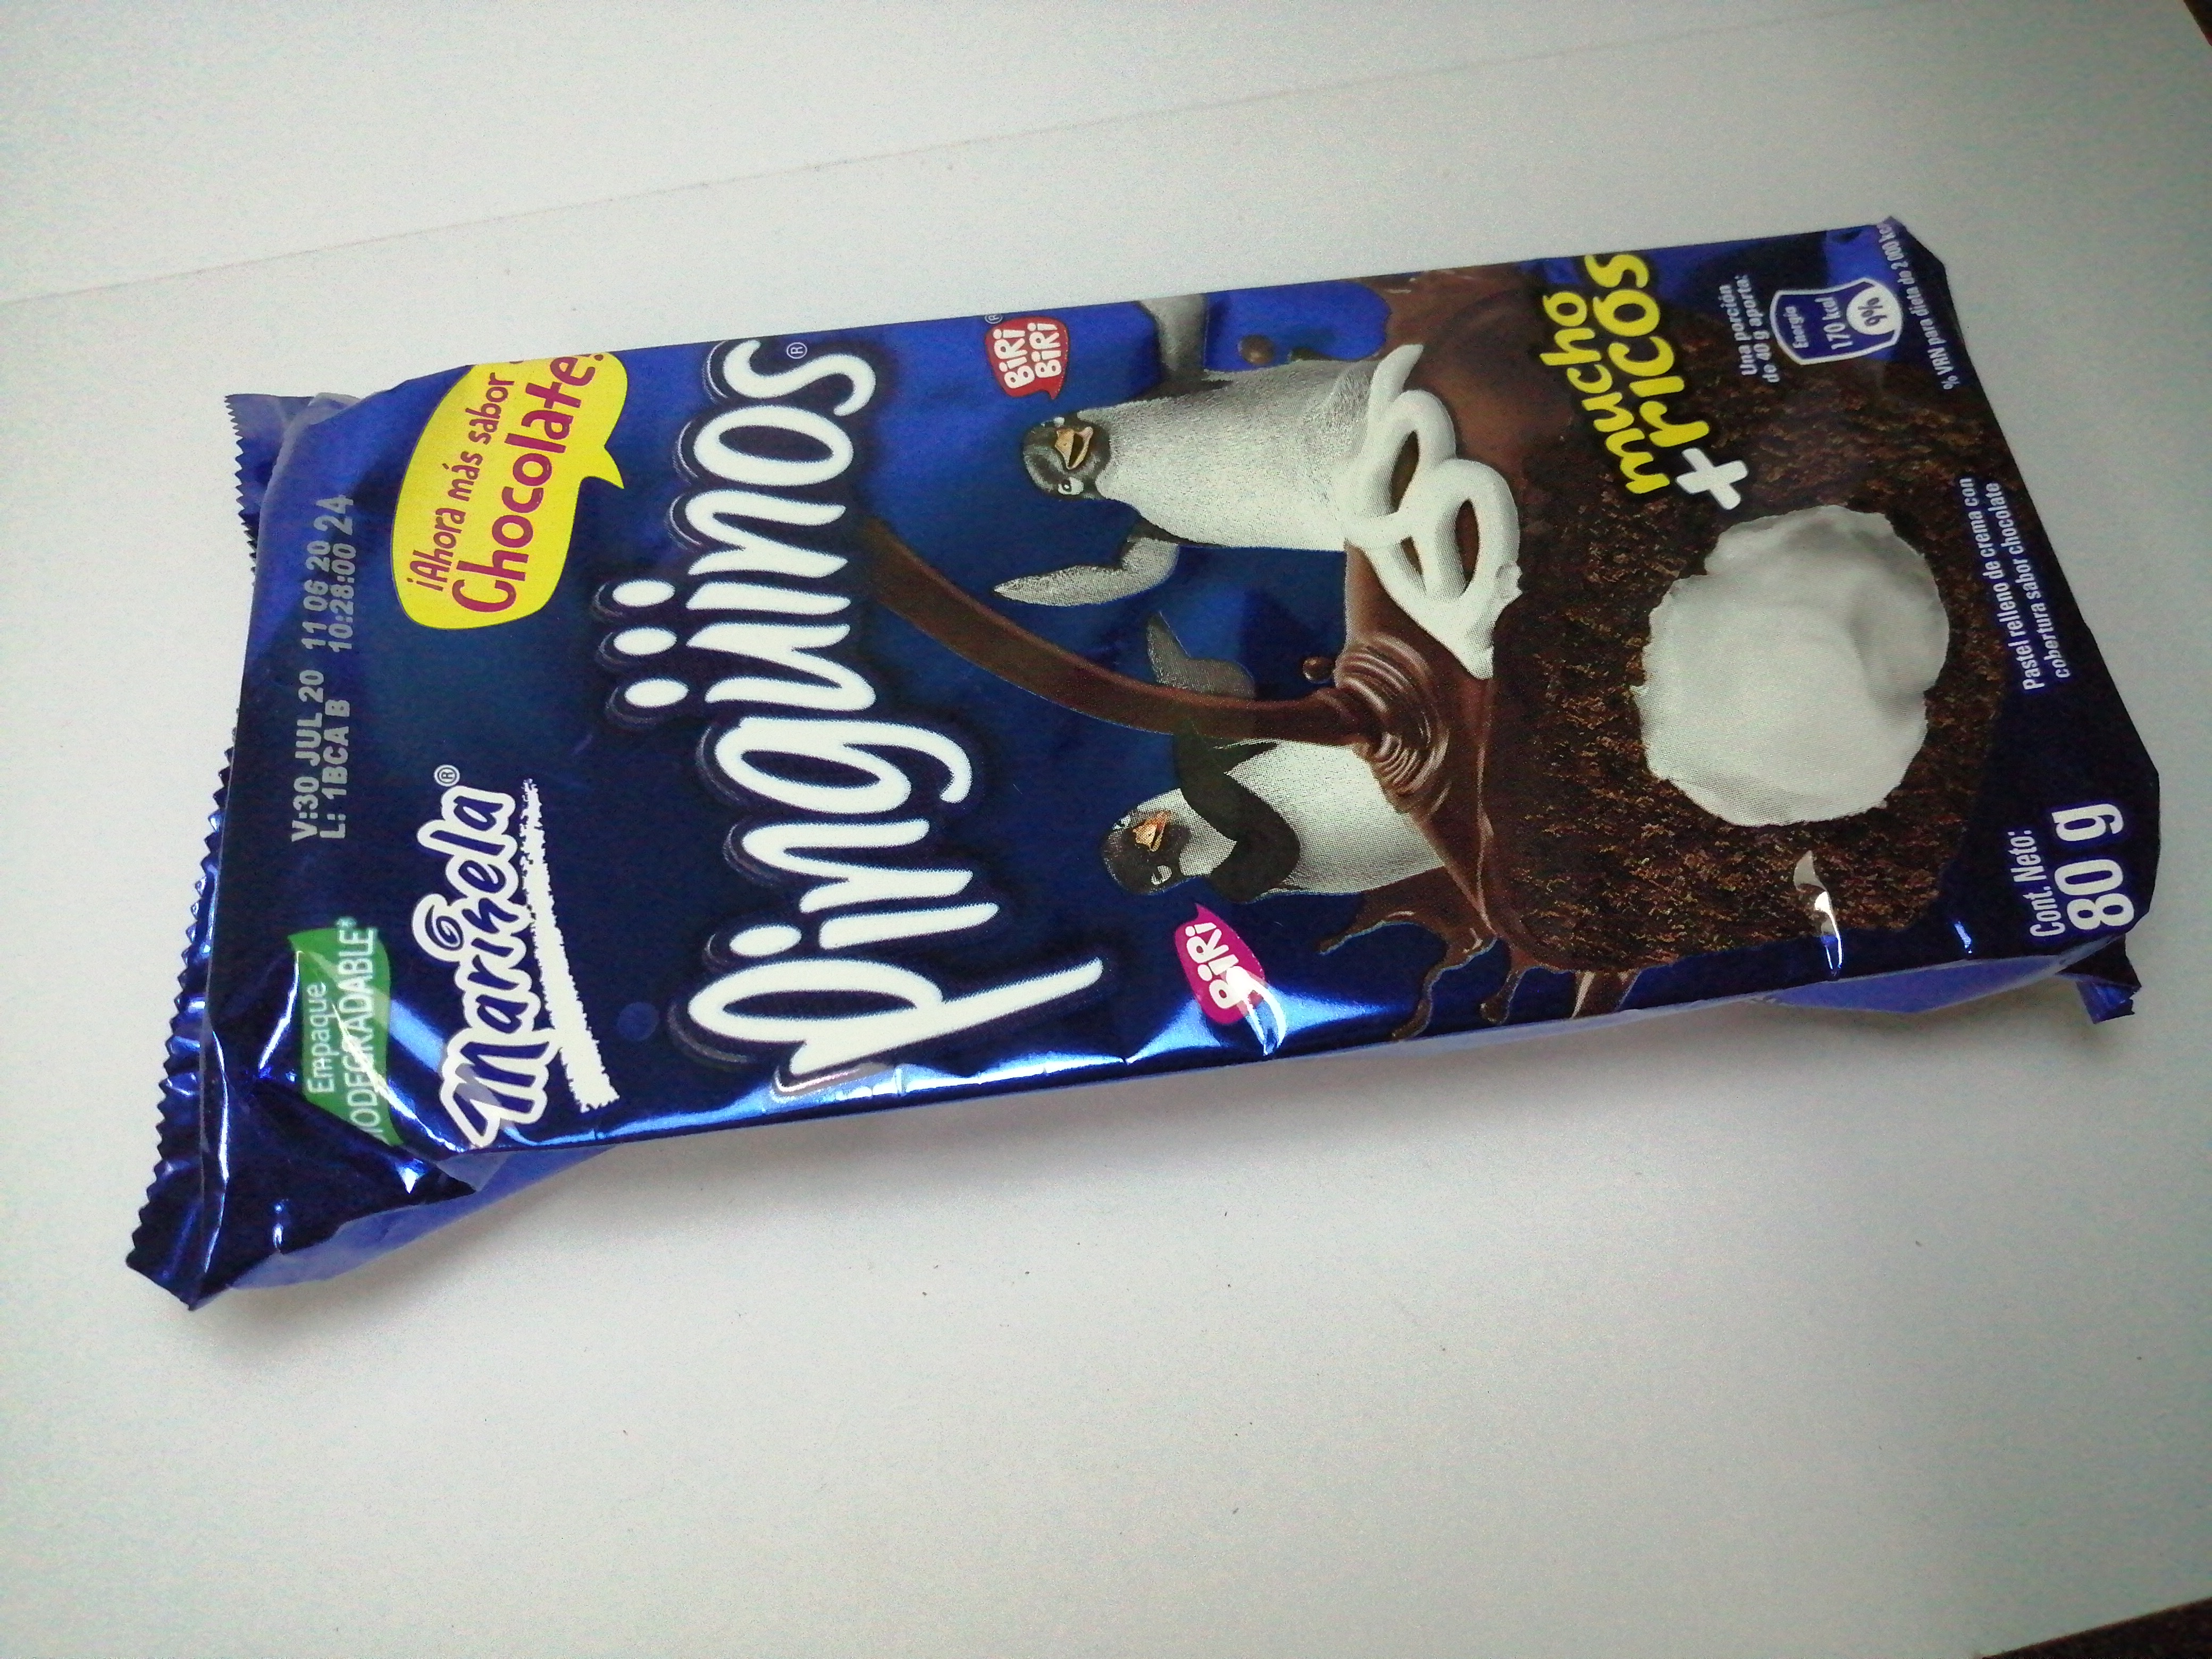pinguino: (118, 225, 2165, 1310)
